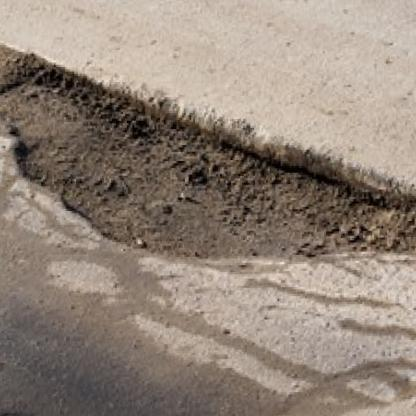pothole: (0, 27, 416, 276)
